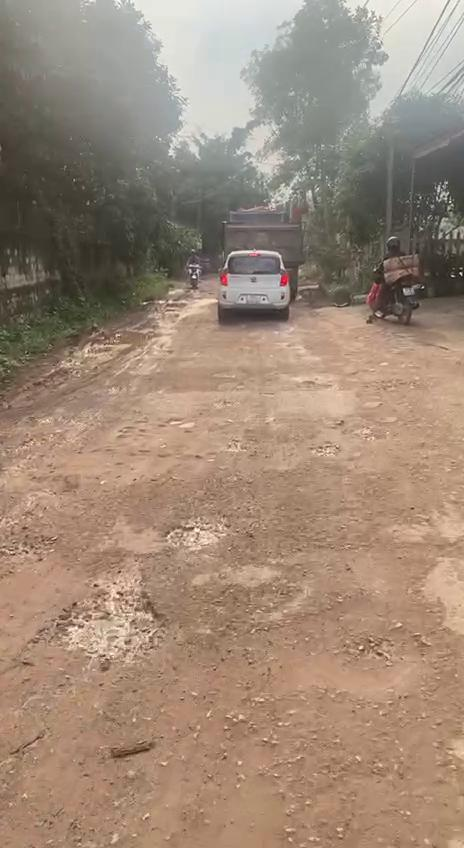pothole: (245, 598, 449, 700), (37, 562, 168, 672), (163, 512, 240, 553), (311, 440, 342, 460)
